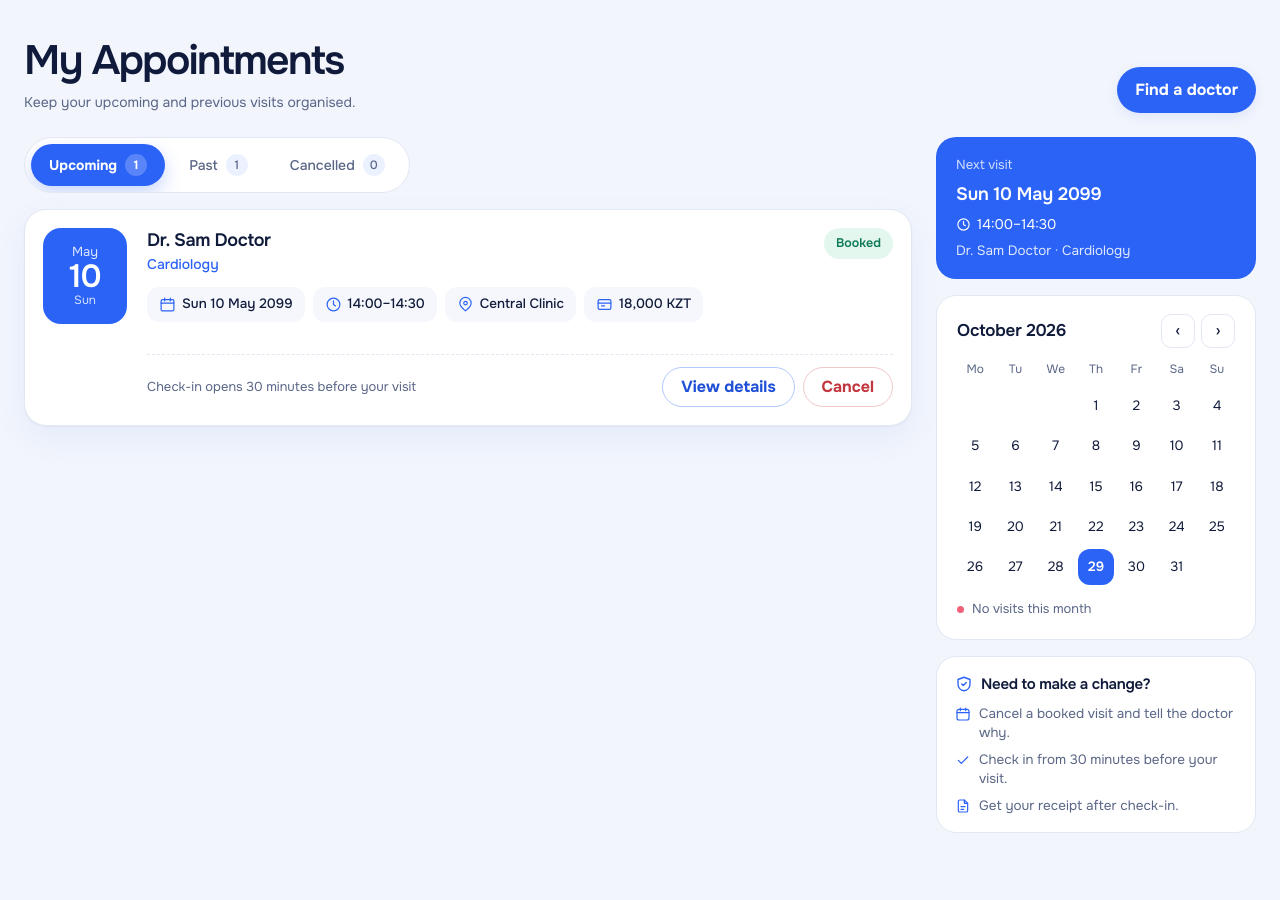
it: patient appointments dashboard › filters past appointments and opens a details view
Expected: the heading "Dr. Sam Doctor" is shown, [147,228,271,252]
Click the tab "Past 1". click: (218, 165)
box: [171,144,266,186]
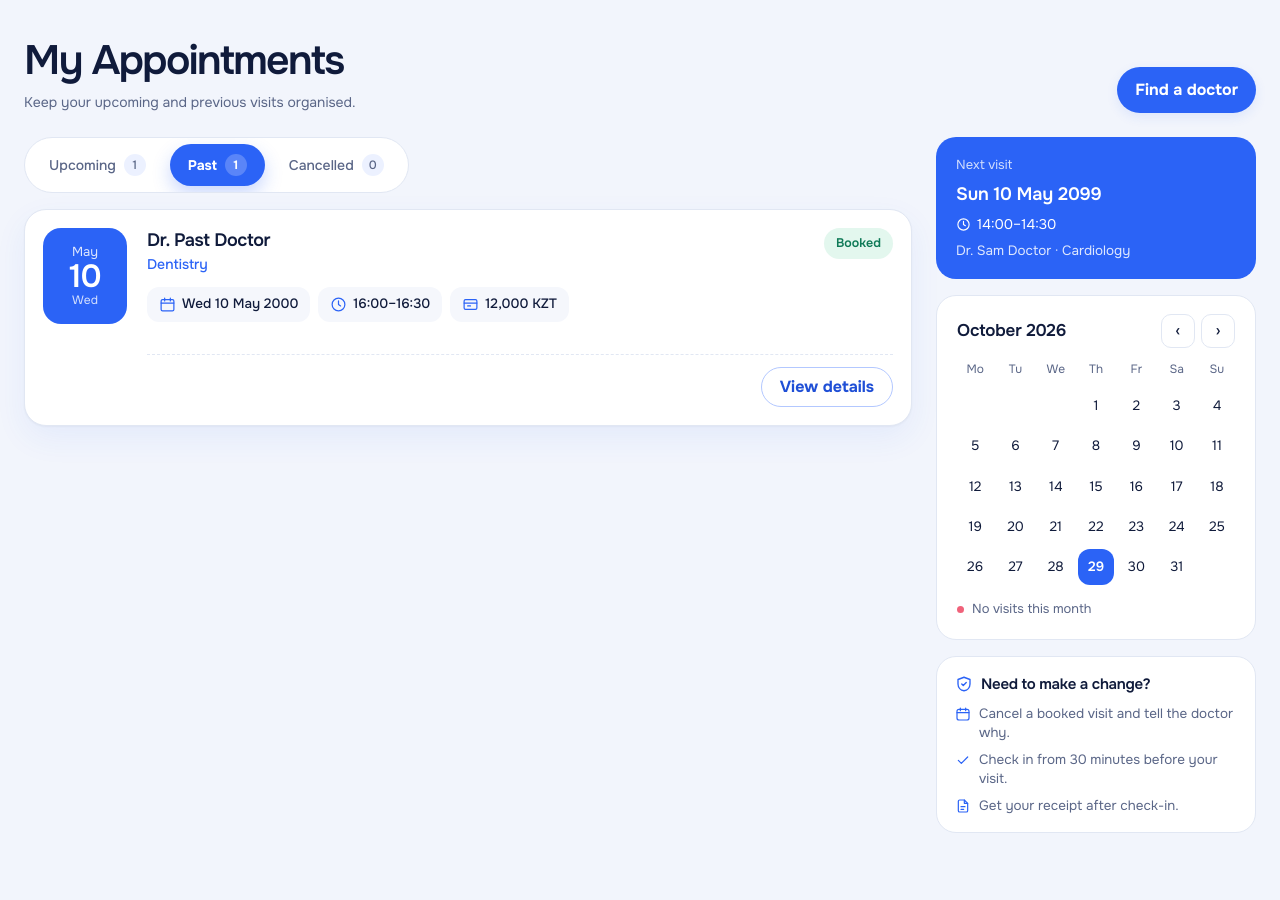
Expected: the heading "Dr. Past Doctor" is shown, [147,228,270,252]
Click the button "View details". click: (827, 387)
box: [761,367,893,407]
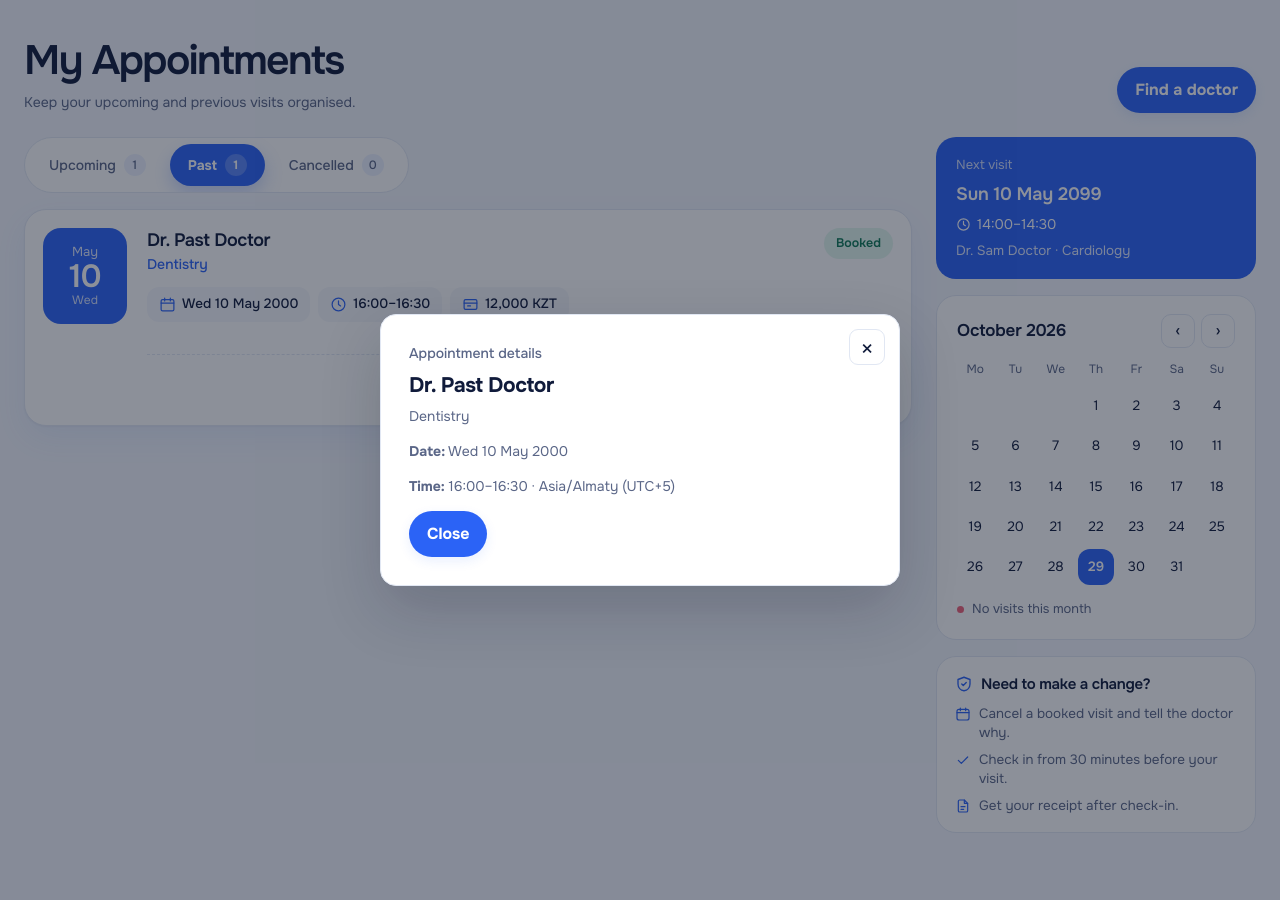
Expected: the dialog "Dr. Past Doctor" is shown, [380,314,900,586]
Click the button named "Close appointment details". click: (867, 347)
box: [849,329,885,365]
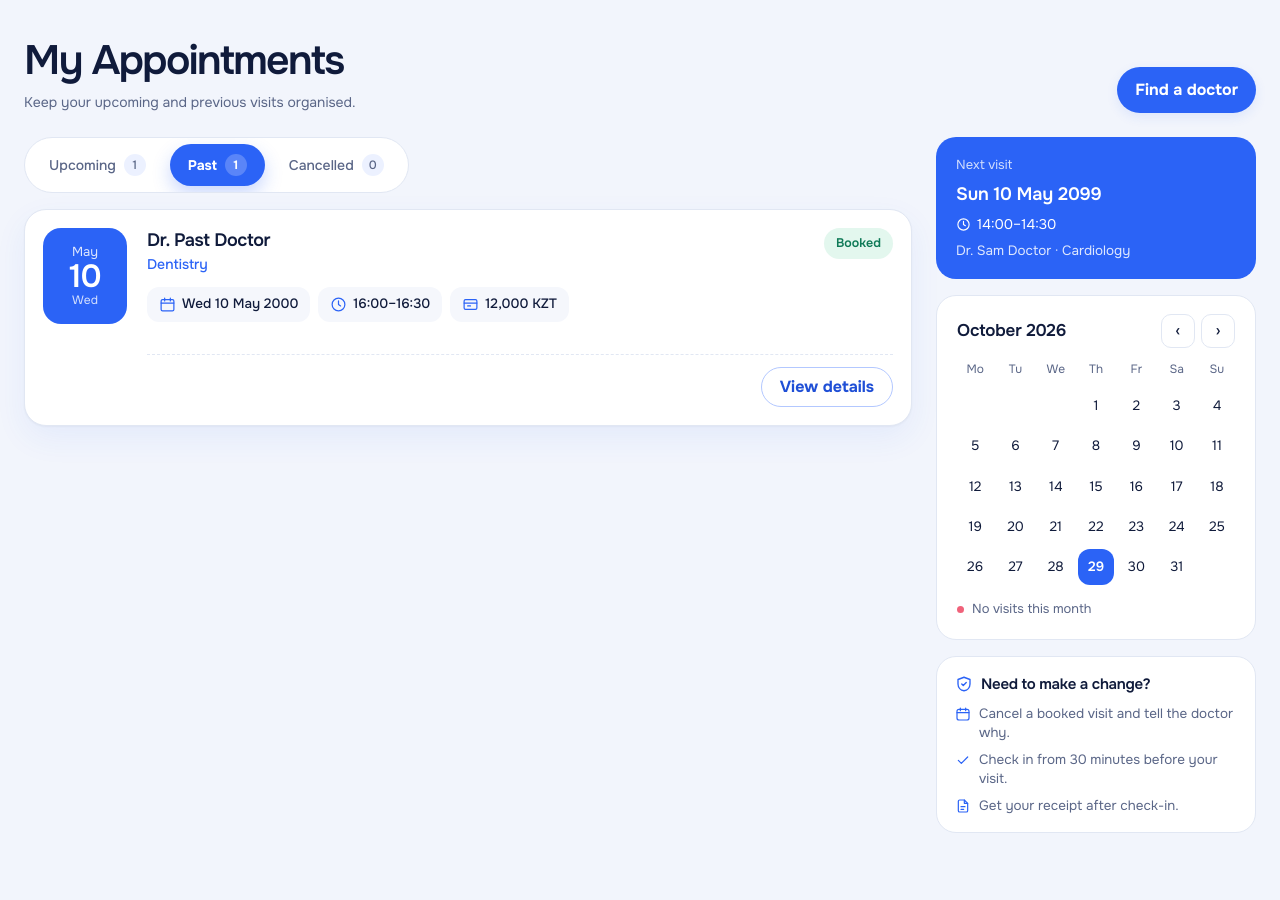
Expected: the dialog is gone
